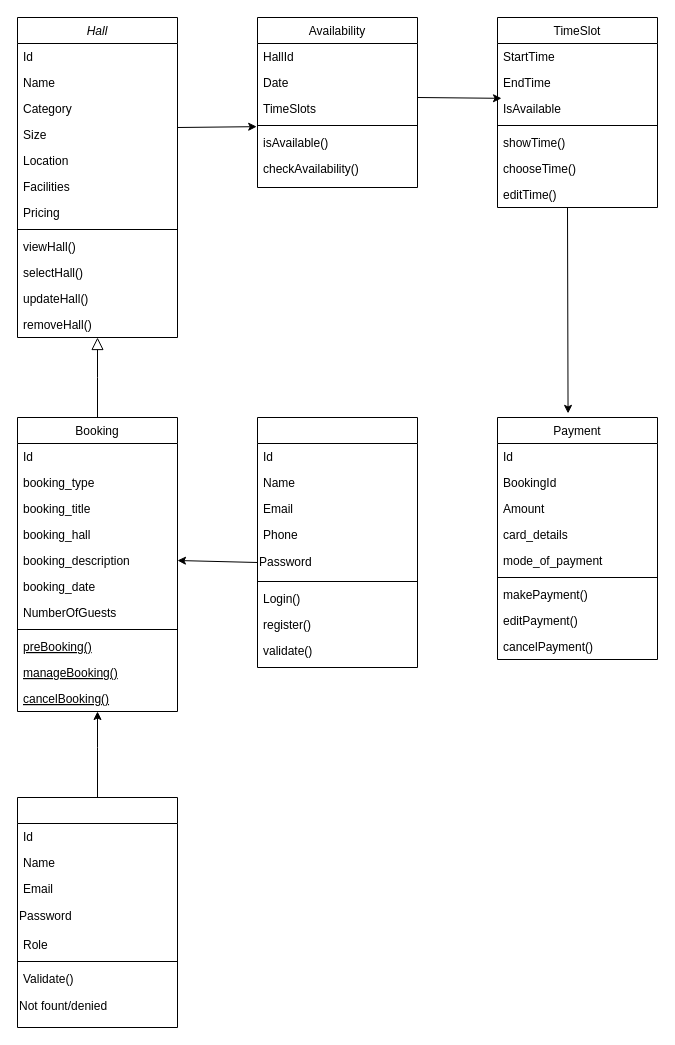
This 675x1045 diagram has some shape labels left out. The shapes that lost their labels are listed below. From the top down, each one's box as (x1, y1, x2, y2) in pixels, then its label:
(256, 416, 418, 668): User
(16, 796, 178, 1028): Admin
